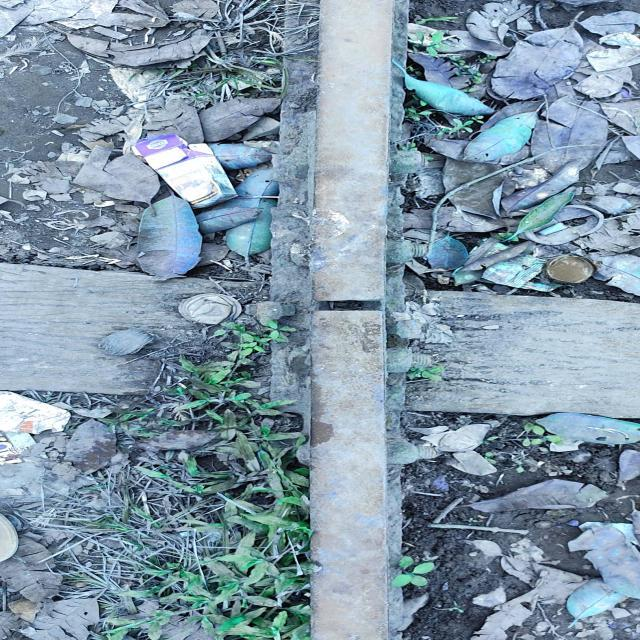Good Fasteners: (178, 294, 242, 325)
